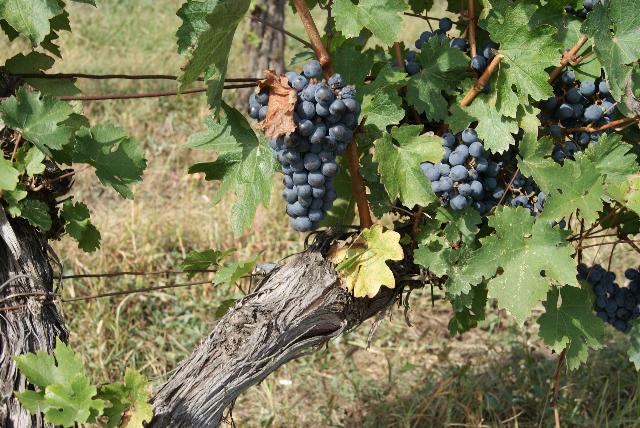grapes: (269, 60, 360, 232)
